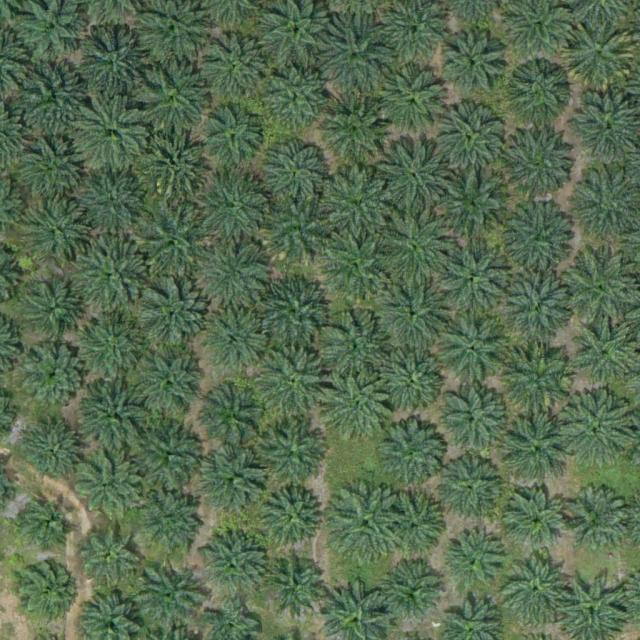Healthy: (315, 21, 393, 100), (76, 31, 154, 110), (74, 377, 152, 456), (73, 310, 151, 389), (73, 234, 151, 313), (74, 96, 152, 175), (141, 122, 219, 201), (135, 199, 213, 278), (136, 279, 214, 358), (131, 417, 209, 496), (195, 241, 273, 320), (196, 172, 274, 251), (256, 274, 334, 353), (254, 343, 332, 422), (321, 371, 399, 450), (317, 310, 395, 389), (374, 208, 452, 287), (376, 273, 454, 352), (373, 340, 451, 419), (371, 416, 449, 495), (434, 384, 512, 463), (434, 311, 512, 390), (501, 126, 579, 205), (503, 199, 581, 278), (501, 341, 579, 420), (500, 413, 578, 492), (561, 251, 639, 330), (498, 551, 576, 630), (326, 485, 404, 564), (375, 137, 453, 215), (438, 238, 516, 316), (438, 168, 516, 246), (501, 270, 579, 348), (560, 393, 638, 471), (205, 36, 276, 107), (74, 174, 145, 245), (140, 65, 210, 136), (134, 350, 205, 420), (201, 381, 271, 452), (263, 64, 333, 135), (321, 91, 391, 162), (321, 167, 392, 237), (264, 200, 335, 270), (257, 422, 327, 493), (381, 67, 451, 138), (200, 531, 270, 602), (135, 488, 206, 558), (260, 139, 330, 209), (134, 562, 204, 632), (74, 454, 144, 524), (24, 346, 87, 409), (202, 108, 265, 171), (575, 324, 638, 387), (444, 531, 507, 594), (75, 520, 138, 583), (509, 58, 571, 121), (443, 33, 505, 96), (17, 135, 79, 198), (29, 203, 91, 266), (22, 424, 84, 487), (209, 315, 271, 378), (326, 233, 388, 296), (440, 109, 502, 172), (563, 490, 625, 553), (507, 492, 569, 555), (437, 459, 499, 522), (383, 489, 445, 552), (265, 554, 328, 616), (15, 492, 77, 555), (16, 558, 78, 621), (23, 65, 85, 127), (385, 561, 447, 623), (260, 486, 322, 548), (205, 451, 267, 513), (26, 286, 81, 341)
Yellow: (563, 21, 640, 99)
